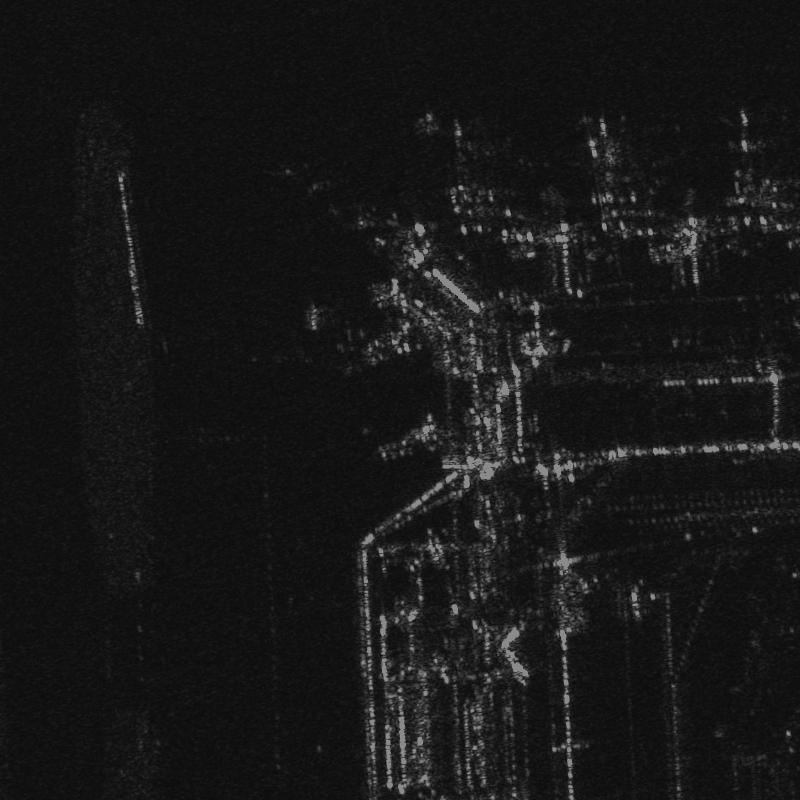Boeing787: (708, 103, 787, 216)
other: (568, 112, 648, 238), (418, 111, 499, 211)
